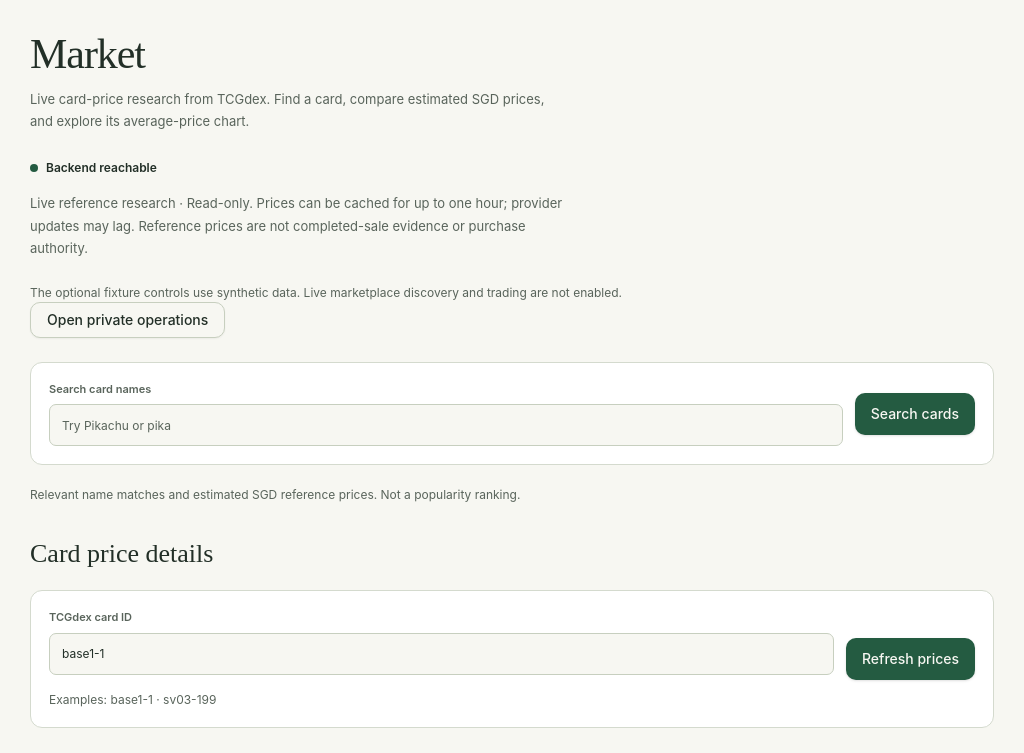
Test: loads hosted reference research on entry while keeping operator credentials and state same-origin
The image size is (1024, 753).
Click the button "Open private operations".
click(128, 320)  # box [30, 302, 225, 338]
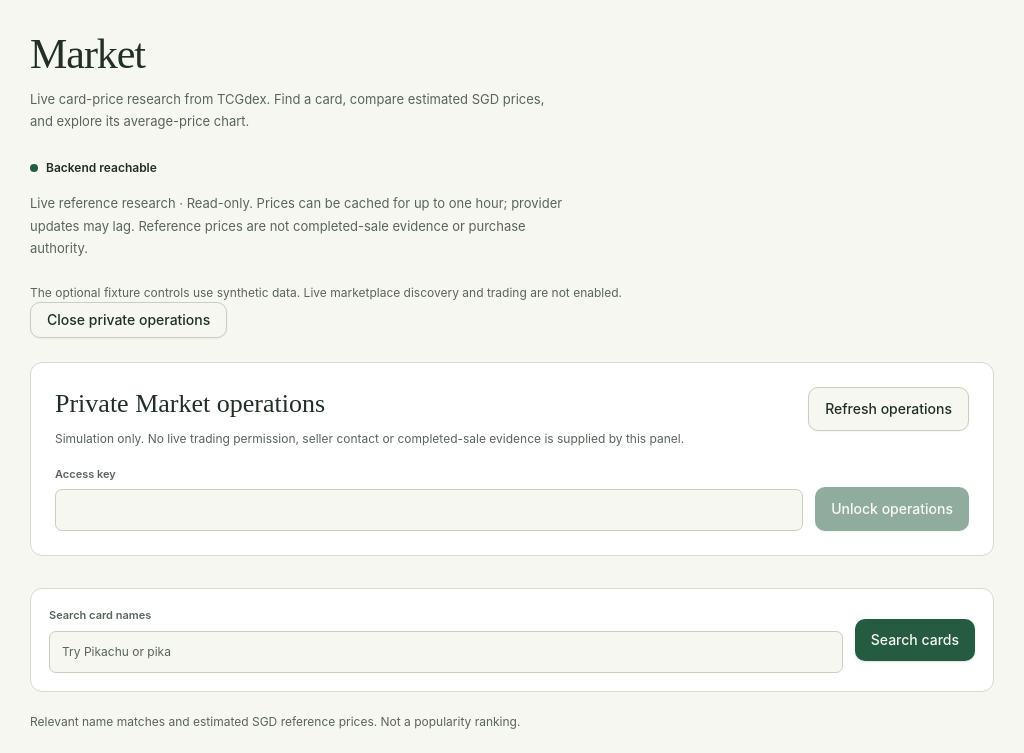
Type "test-private-operator-key" into the password field labelled "Access key".
click(429, 510); type("test-private-operator-key")  # box [55, 489, 803, 531]
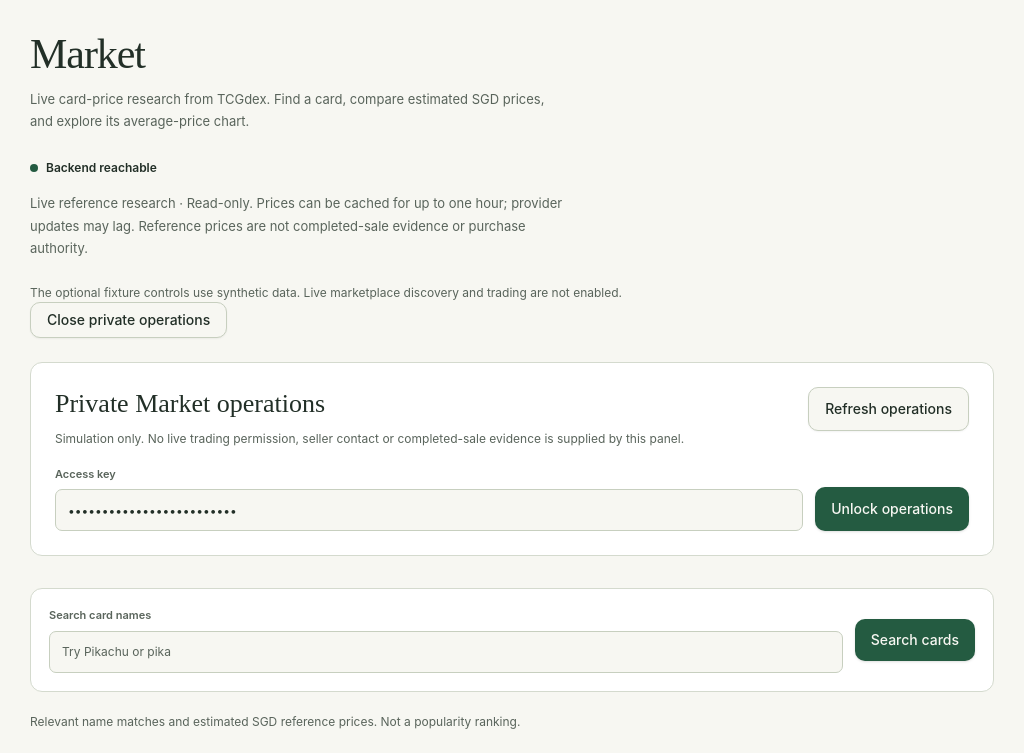
Click the button "Unlock operations".
click(892, 509)  # box [815, 487, 969, 531]
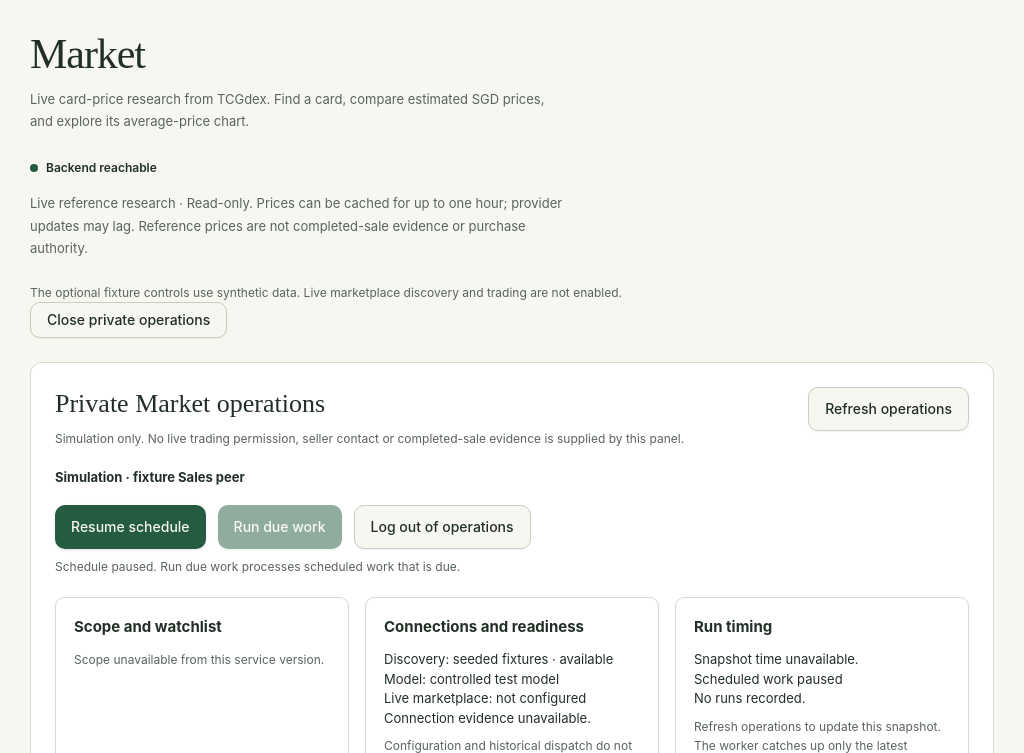
Now the button "Resume schedule" is shown, box [55, 505, 206, 549]
